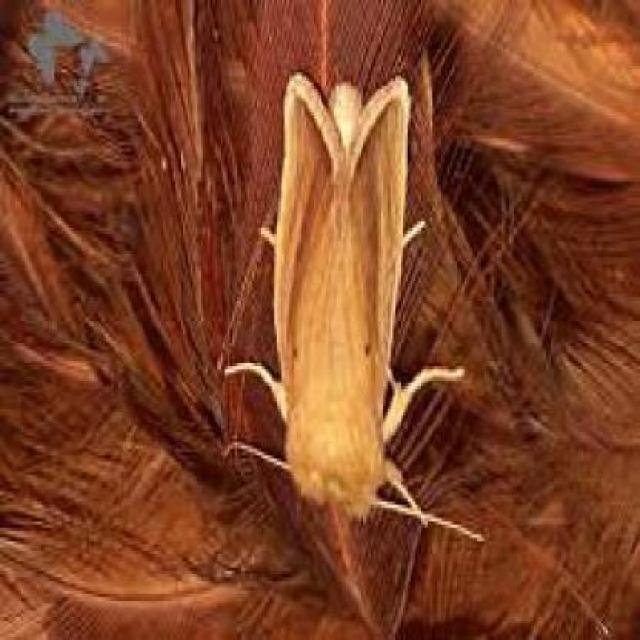stem-borer: (258, 64, 419, 530)
